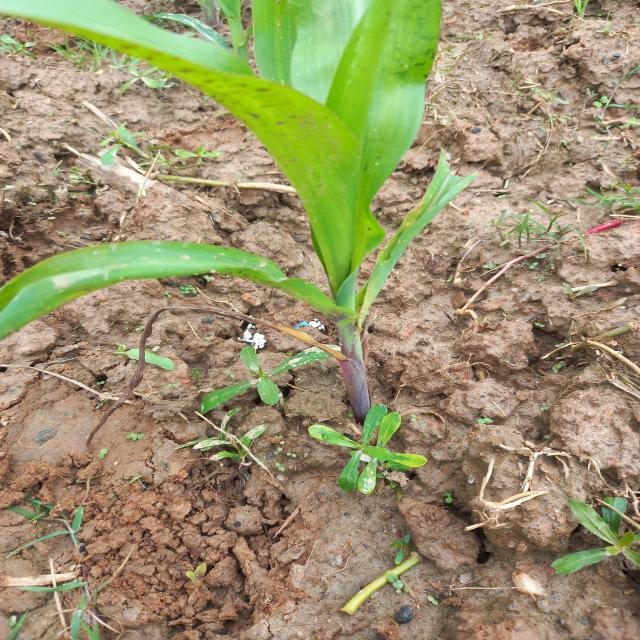maize: (0, 0, 482, 416)
weed: (308, 405, 443, 494), (85, 117, 232, 187), (200, 344, 342, 410), (552, 485, 640, 588), (498, 191, 640, 250), (520, 82, 586, 153), (191, 418, 271, 476), (102, 53, 187, 100), (559, 0, 640, 34), (121, 337, 180, 381), (1, 34, 49, 84), (587, 81, 627, 139)
